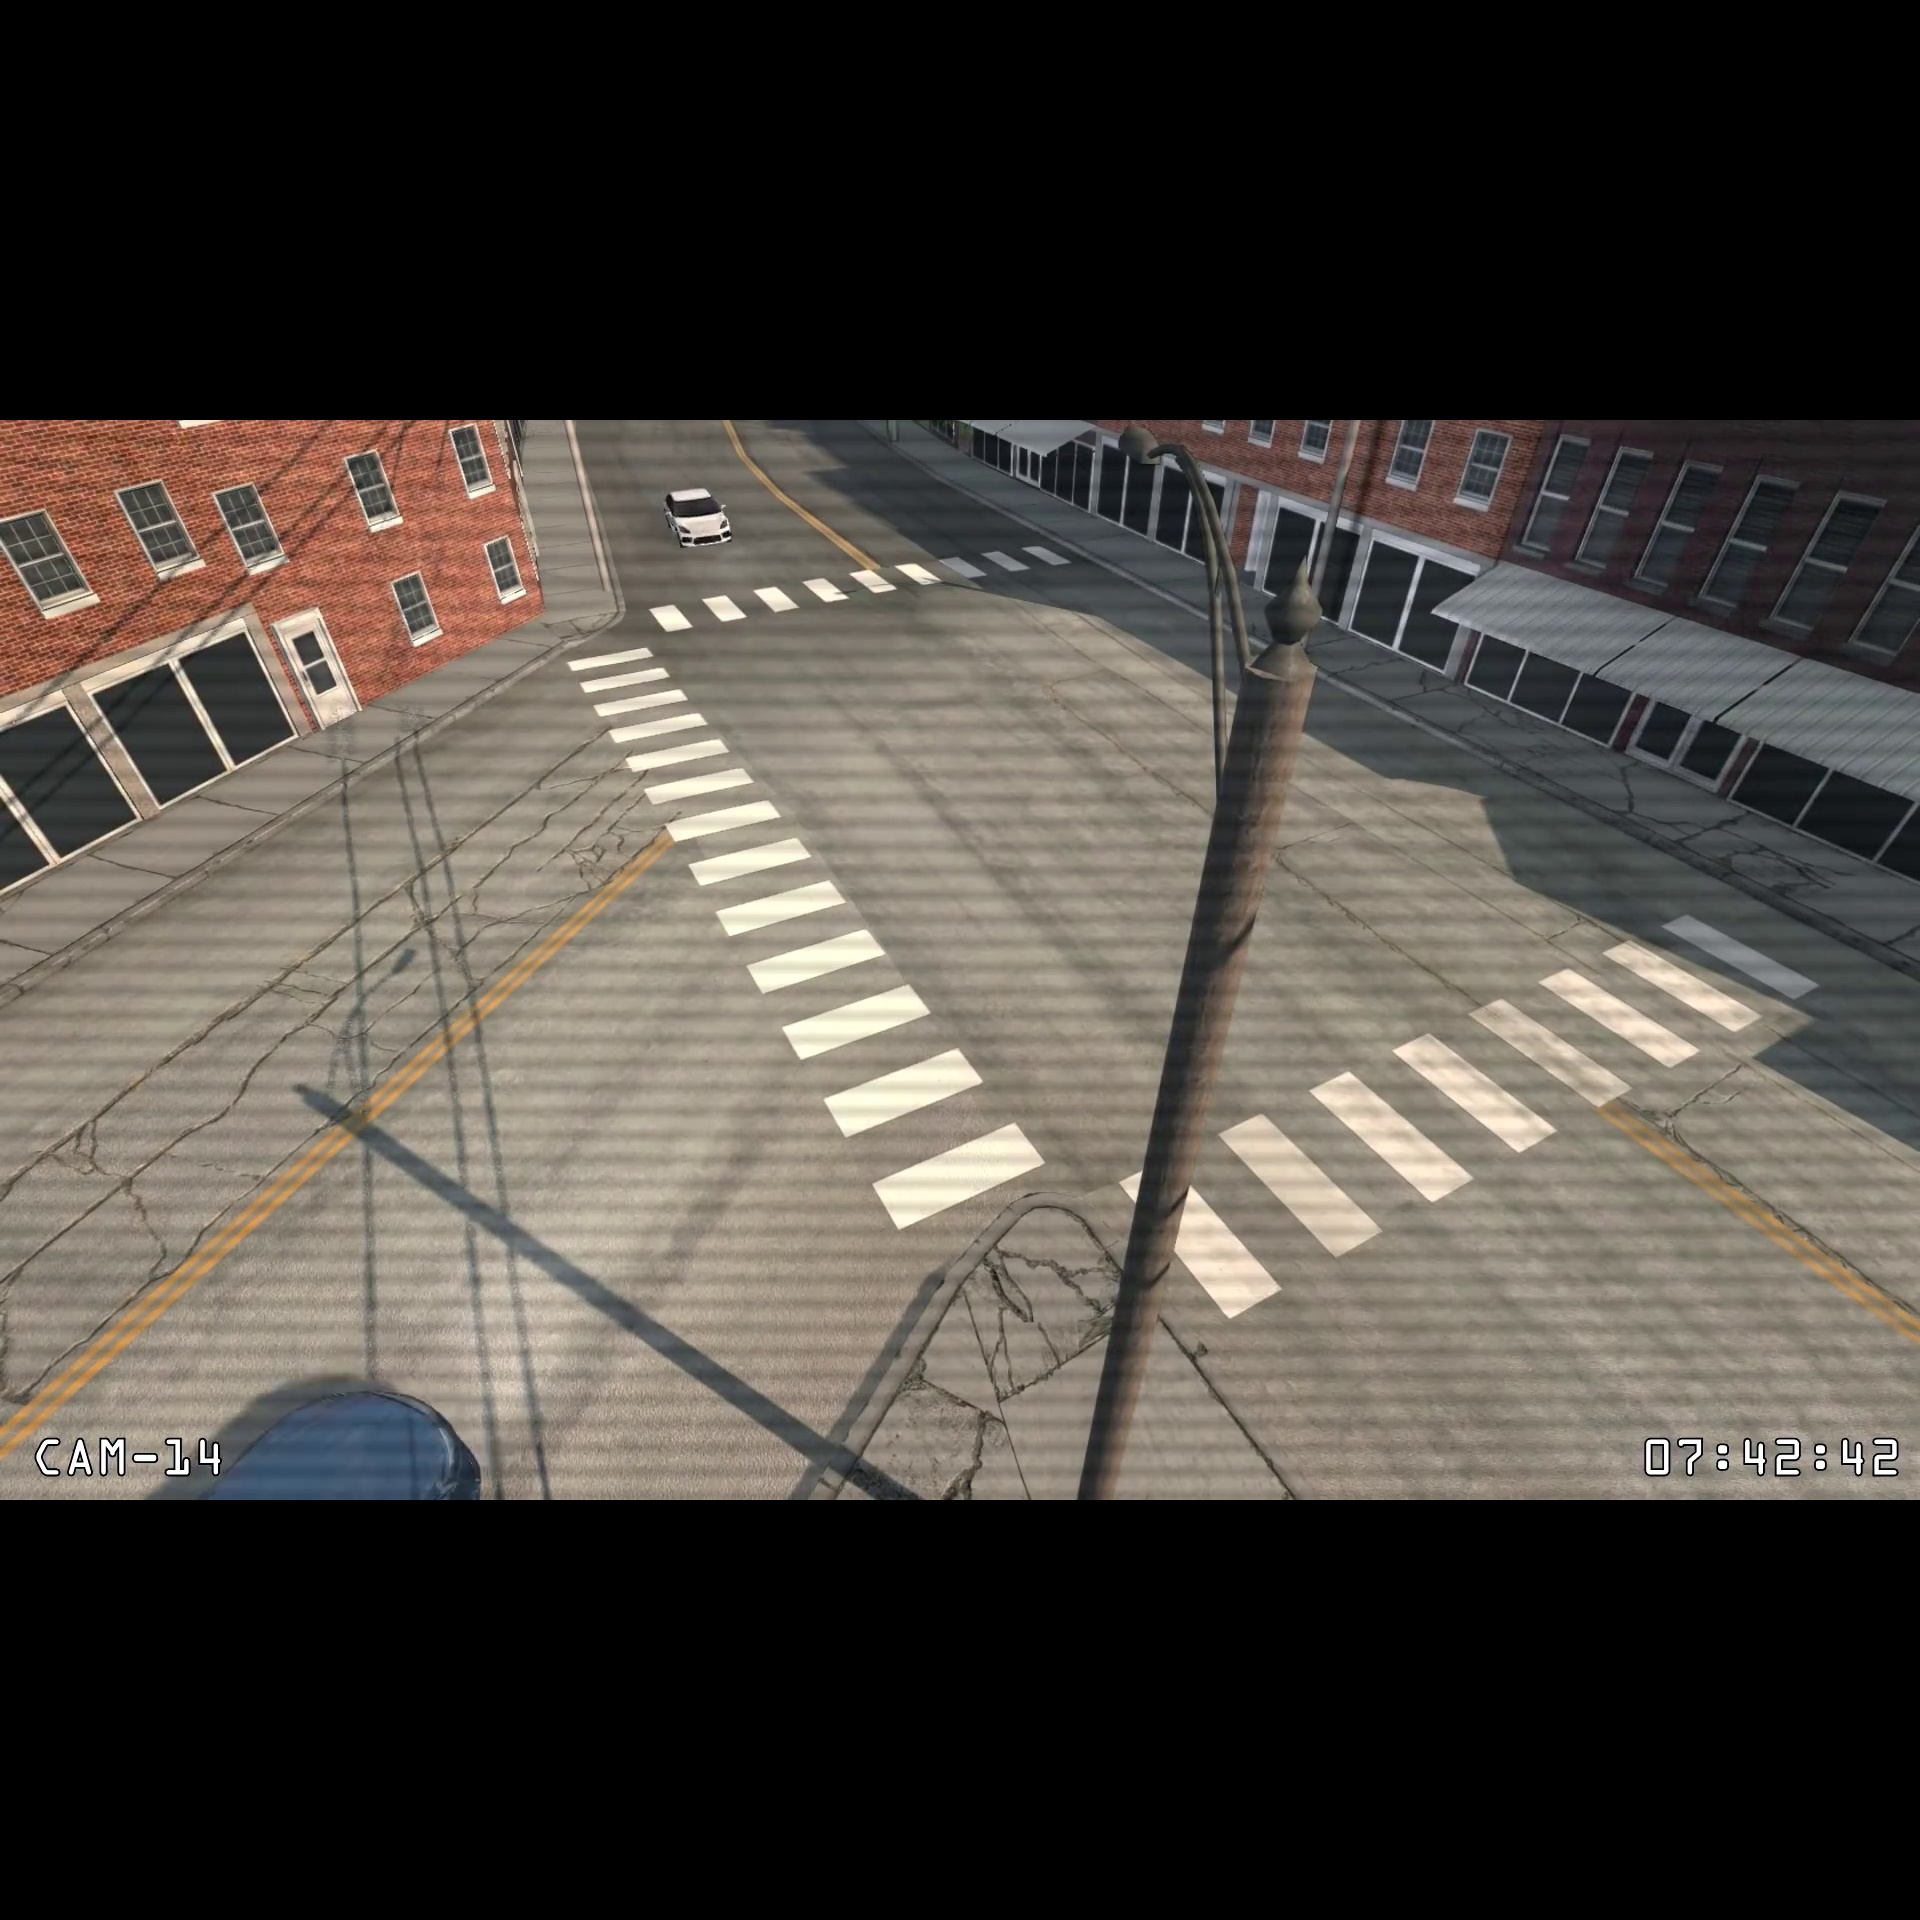vehicle: (659, 484, 735, 554)
